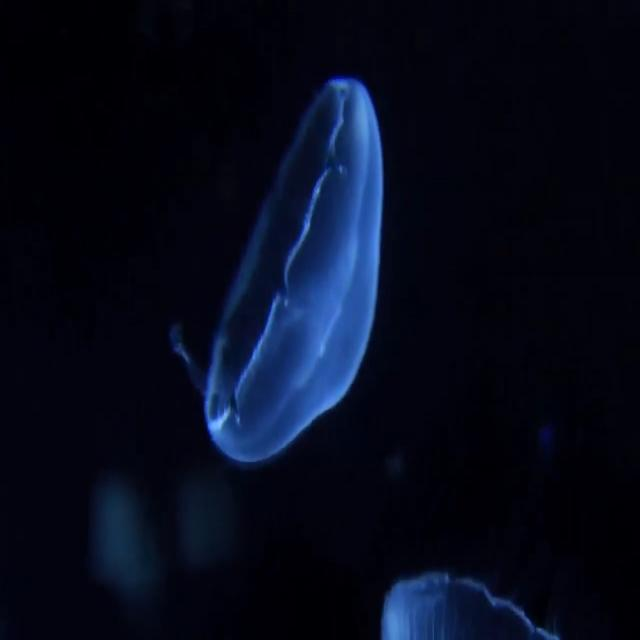Moon-jellyfish: (170, 76, 386, 469)
